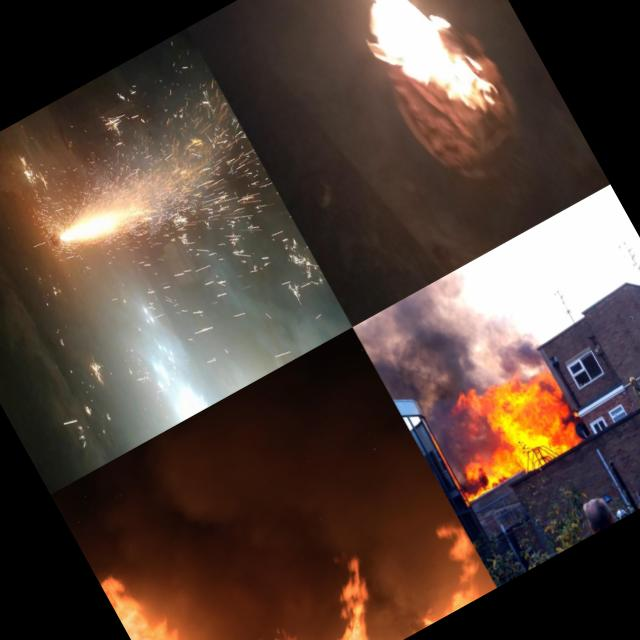fire: (149, 206, 274, 390), (345, 0, 504, 144), (225, 552, 407, 640), (459, 358, 585, 481), (101, 550, 260, 640), (377, 520, 498, 634)
smoke: (353, 265, 522, 431), (426, 406, 484, 468), (496, 310, 544, 370), (457, 468, 492, 502)
